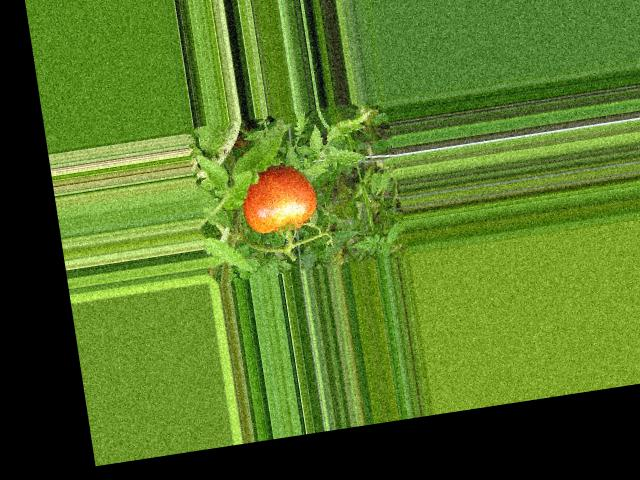tomato: (238, 161, 320, 236)
